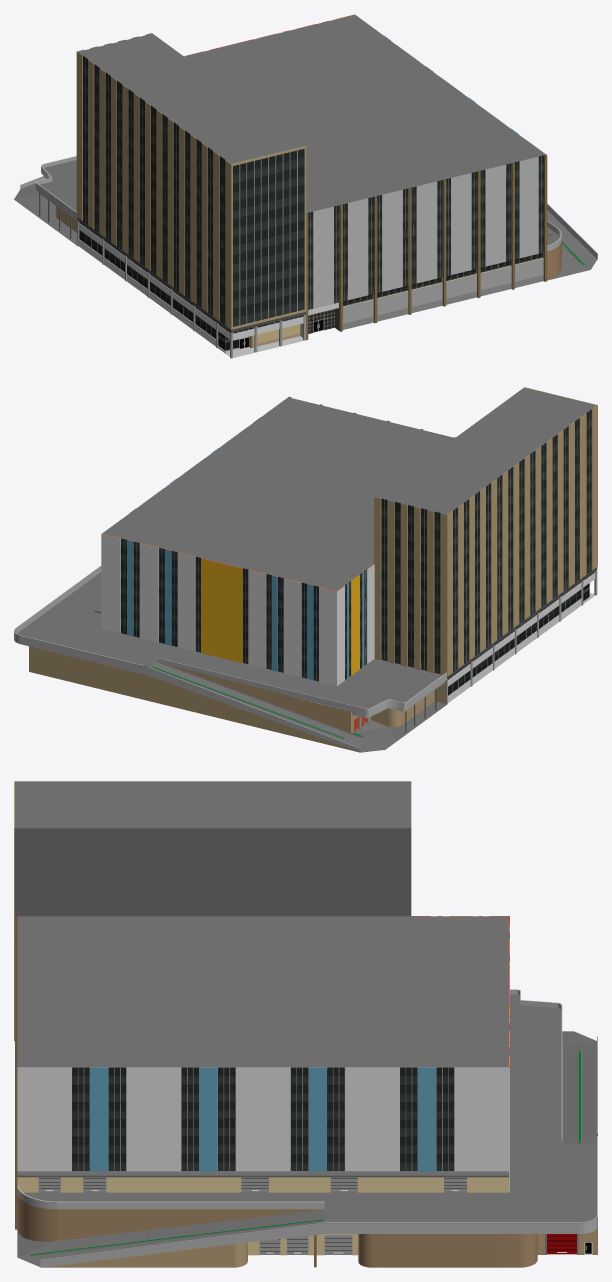
The model's file is Factory-Detroit.fbx.
3 renders of one model, top to bottom at view 1: azimuth 30°, elevation 25°; view 2: azimuth 150°, elevation 25°; view 3: azimuth 270°, elevation 25°, orthographic. The views are drawn at different scales.
Visible parts, largest first — view 1: Factory-Detroid; view 2: Factory-Detroid; view 3: Factory-Detroid.
Part boxes in pixels (x1,y1,x2,y2): Factory-Detroid: (14, 14, 597, 358); Factory-Detroid: (14, 387, 597, 752); Factory-Detroid: (14, 781, 597, 1267).
Size of what is drawn, in the model's own units: 103 by 50.6 by 107.
